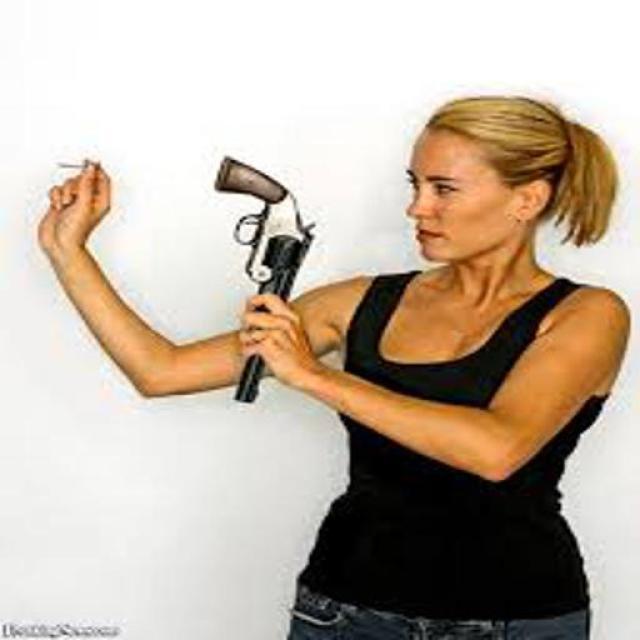pistol: (201, 151, 311, 405)
